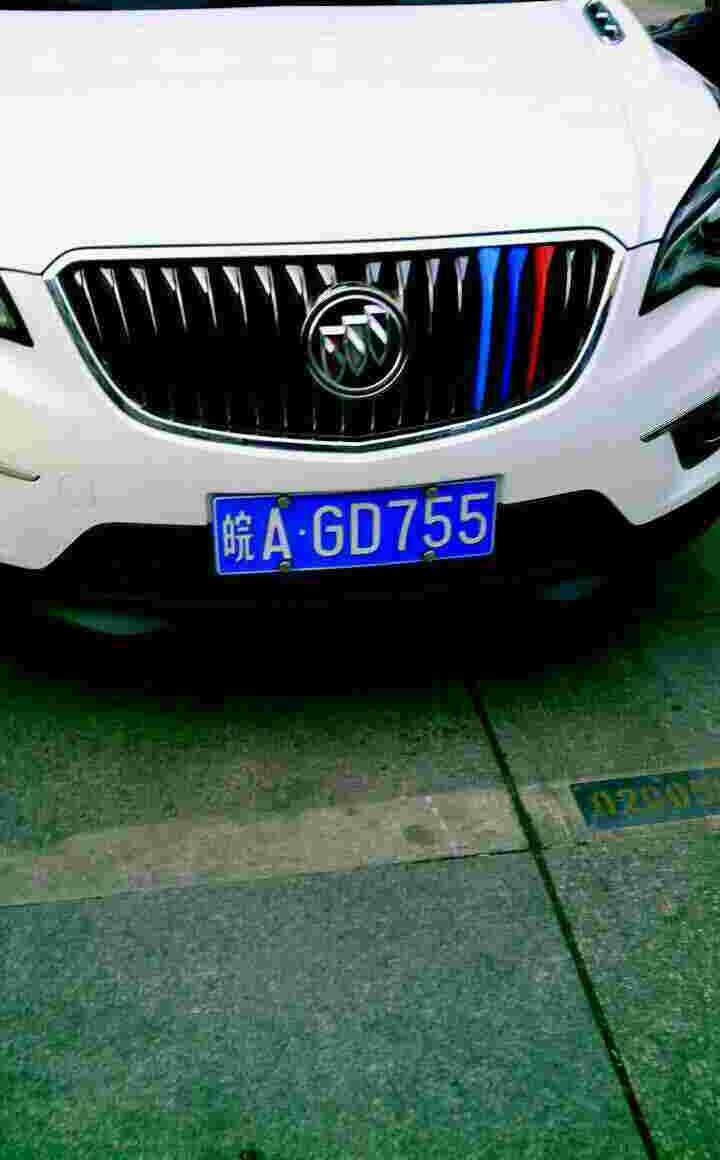license_plate: (213, 482, 506, 584)
